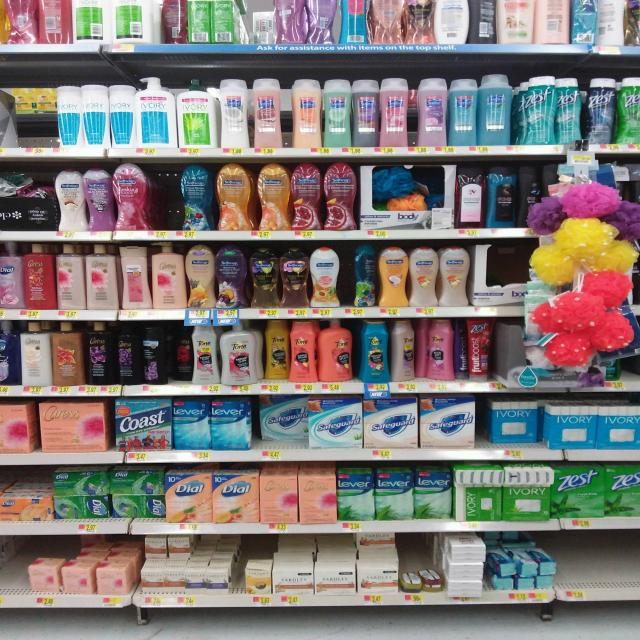void: (564, 531, 640, 606), (0, 82, 51, 161), (146, 162, 178, 240), (0, 534, 26, 612), (169, 324, 196, 398)
